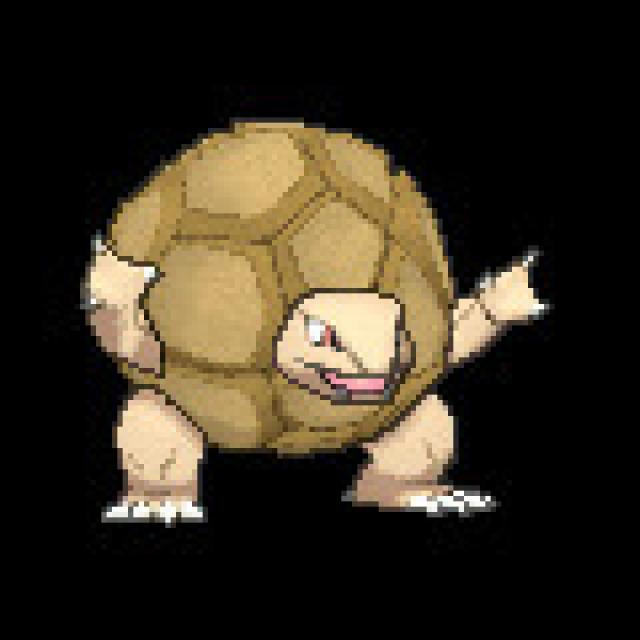Golem: (68, 102, 530, 520)
